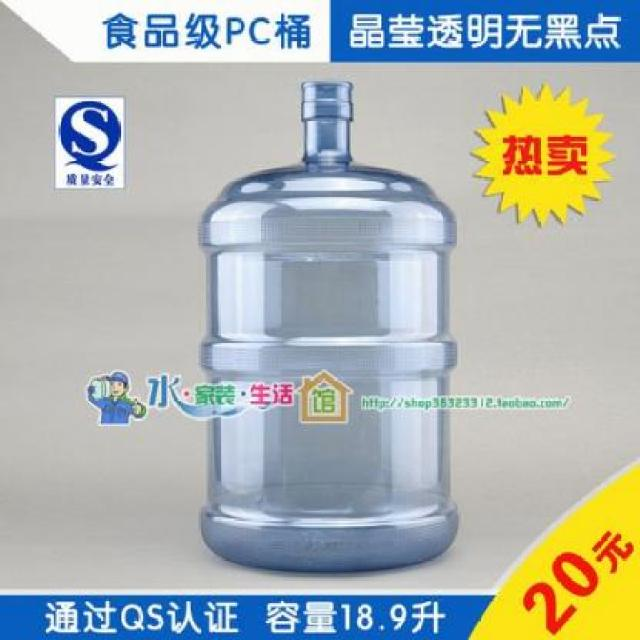coolerbottle: (197, 74, 461, 581)
